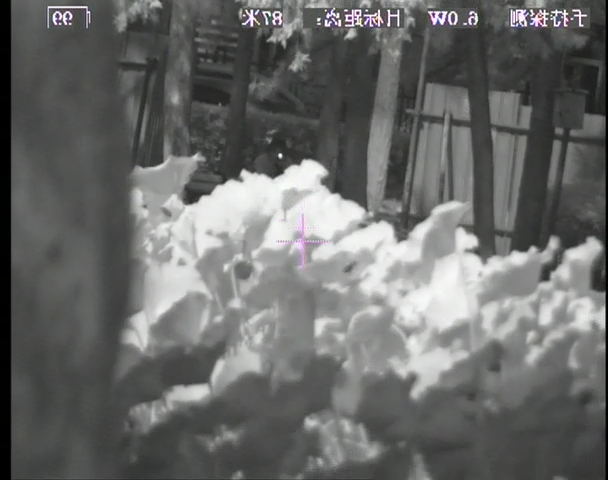my: (277, 151, 284, 160)
